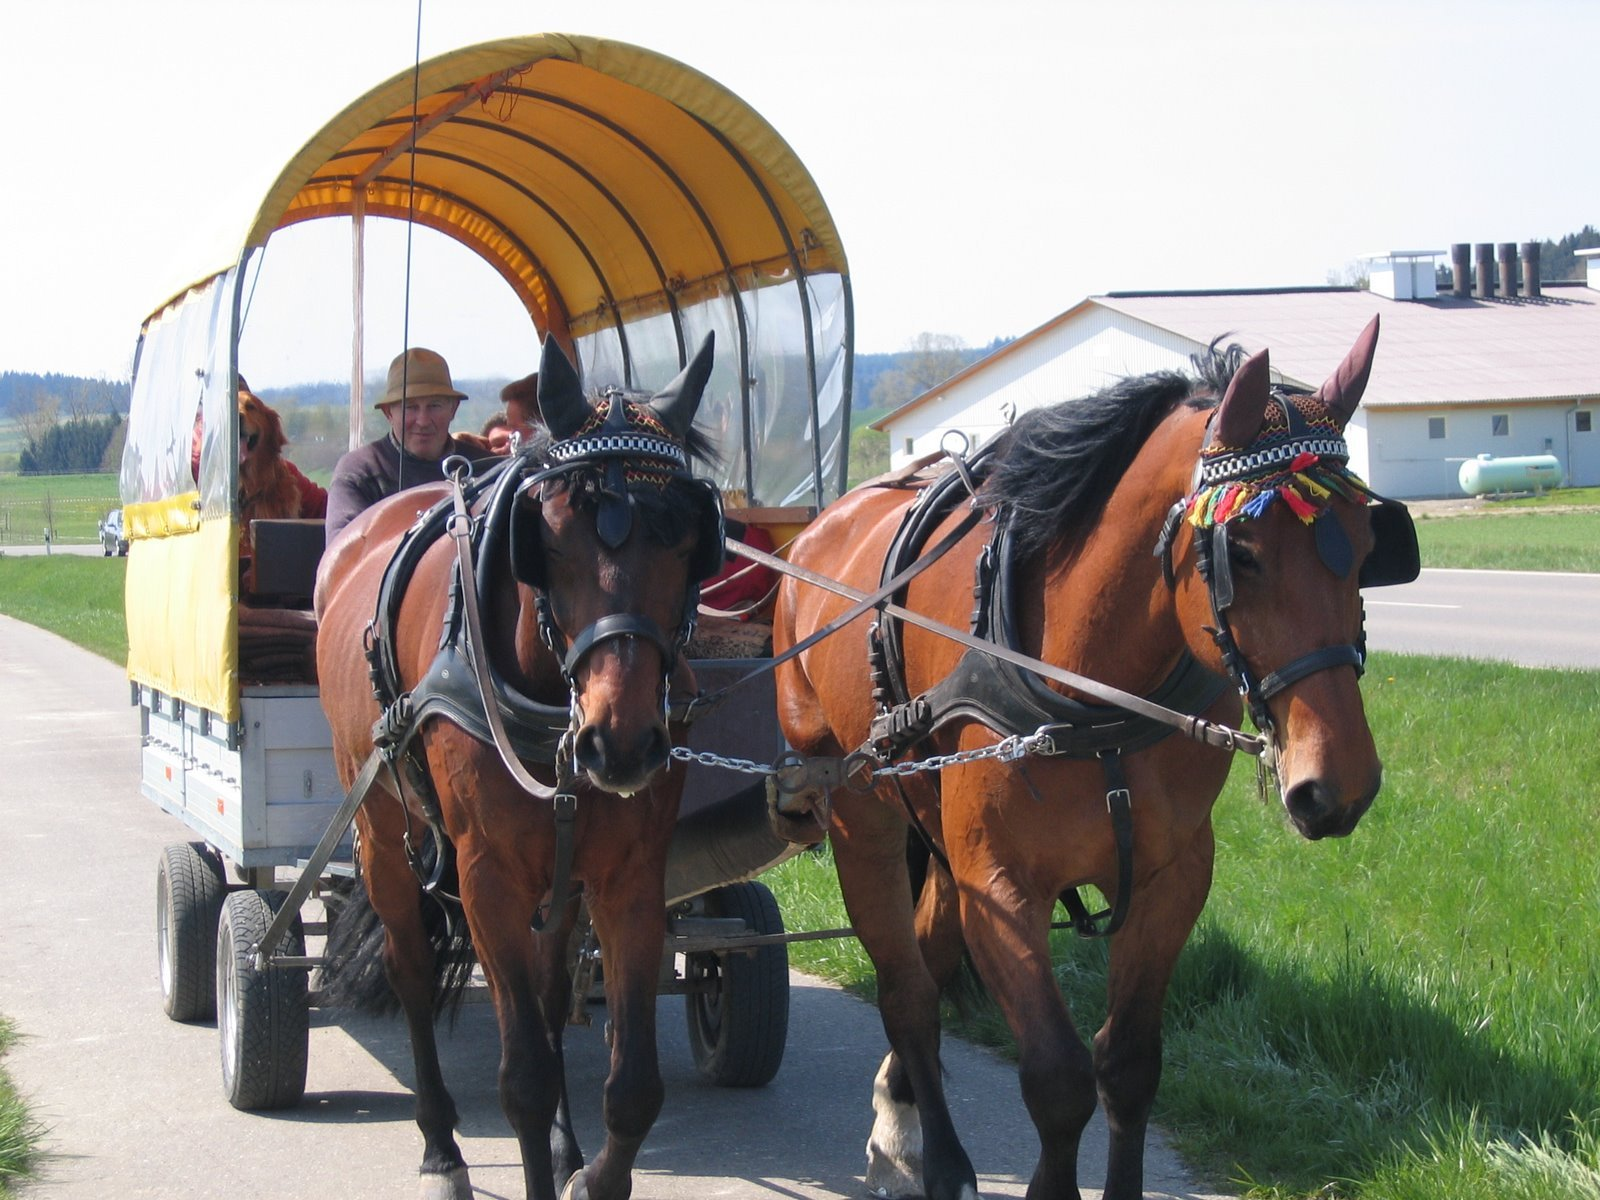horse: (767, 313, 1409, 1197), (307, 337, 728, 1200)
